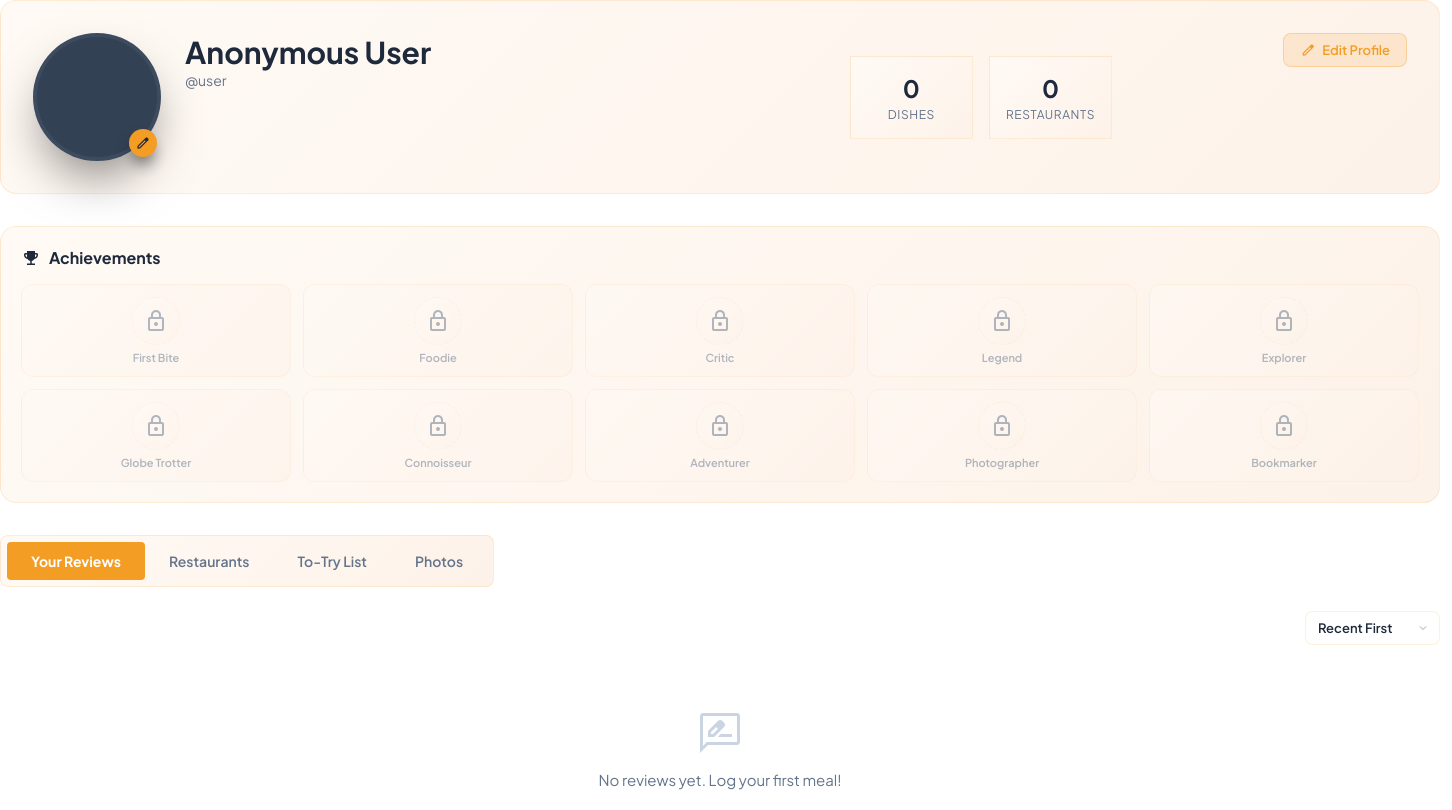
Test: Profile — To-Try List › shows empty state when no saved restaurants
Click the button "To-Try List" at {"x": 332, "y": 561}, box [274,542,391,580]
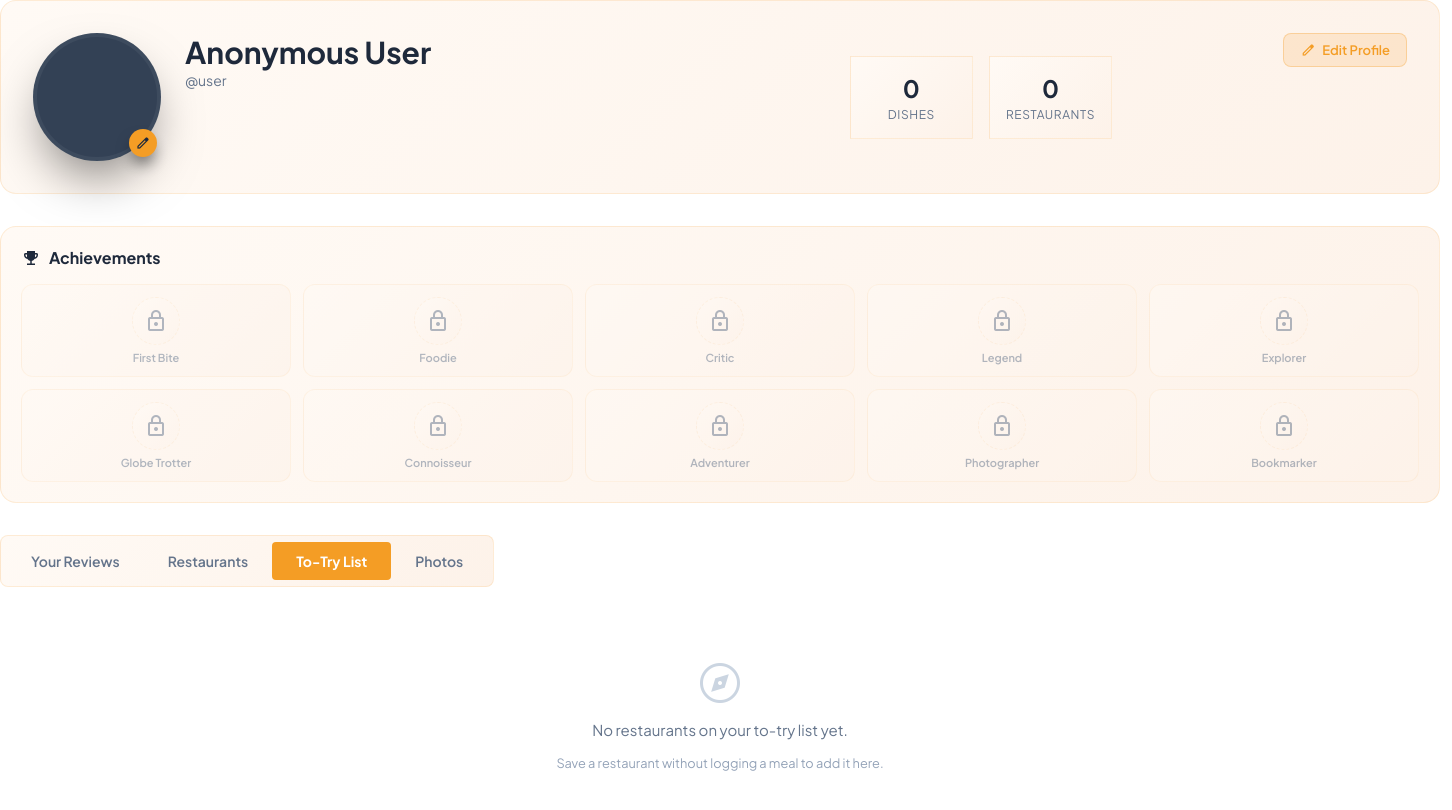
Check: the text "No restaurants on your to-try list yet." is shown, box [592,719,848,742]
